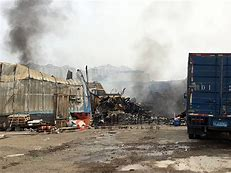smoke: (4, 1, 65, 63)
